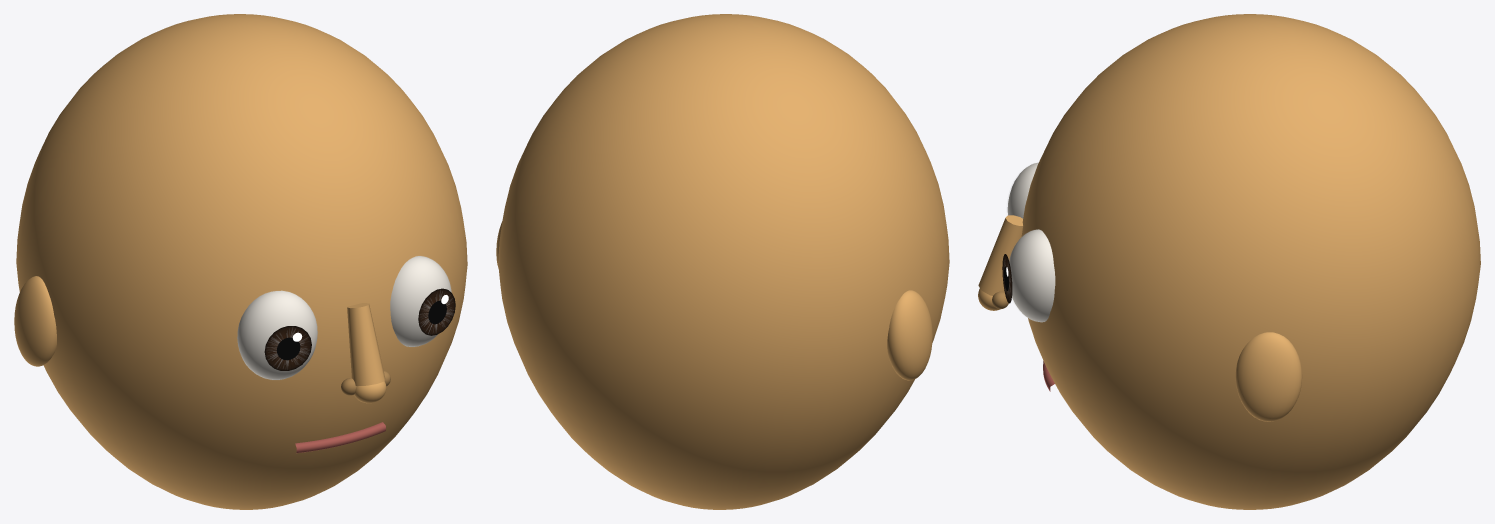
The model's file is 00-aucun.glb.
3 renders of one model, left to right at view 1: azimuth 30°, elevation 25°; view 2: azimuth 150°, elevation 25°; view 3: azimuth 270°, elevation 25°, orthographic.
Size of the model in its own units: 0.3087 by 0.321 by 0.3166.
Materials: 8 (1 with a texture image).
